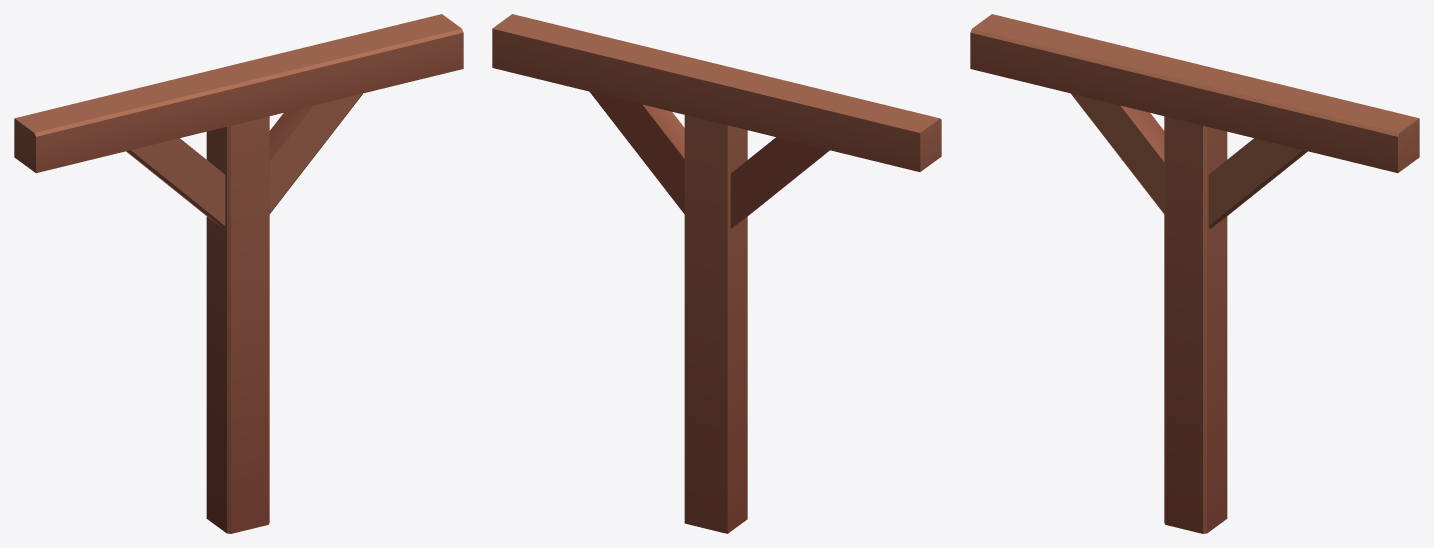
The model's file is scaffold_pillar_wall.glb.
The picture shows the model from 3 angles, left to right: view 1: azimuth 30°, elevation 25°; view 2: azimuth 150°, elevation 25°; view 3: azimuth 330°, elevation 25°; orthographic projection.
Parts seen in each view (by area): view 1: scaffold_pillar_wall; view 2: scaffold_pillar_wall; view 3: scaffold_pillar_wall.
Part boxes in pixels (x1,y1,x2,y2): scaffold_pillar_wall: (14,14,463,533); scaffold_pillar_wall: (492,14,941,533); scaffold_pillar_wall: (970,14,1419,533).
Size of the model in its own units: 4 by 4 by 0.35.
1 material, 1 textured.
